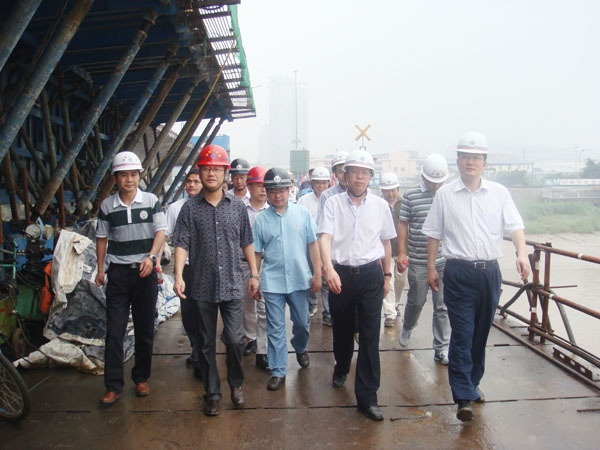none: (184, 168, 201, 197)
red: (195, 143, 232, 194), (244, 164, 266, 202)
white: (456, 128, 490, 180), (342, 150, 376, 193), (110, 152, 141, 192), (421, 154, 446, 191), (330, 148, 346, 186), (379, 170, 399, 200), (310, 166, 331, 193)
